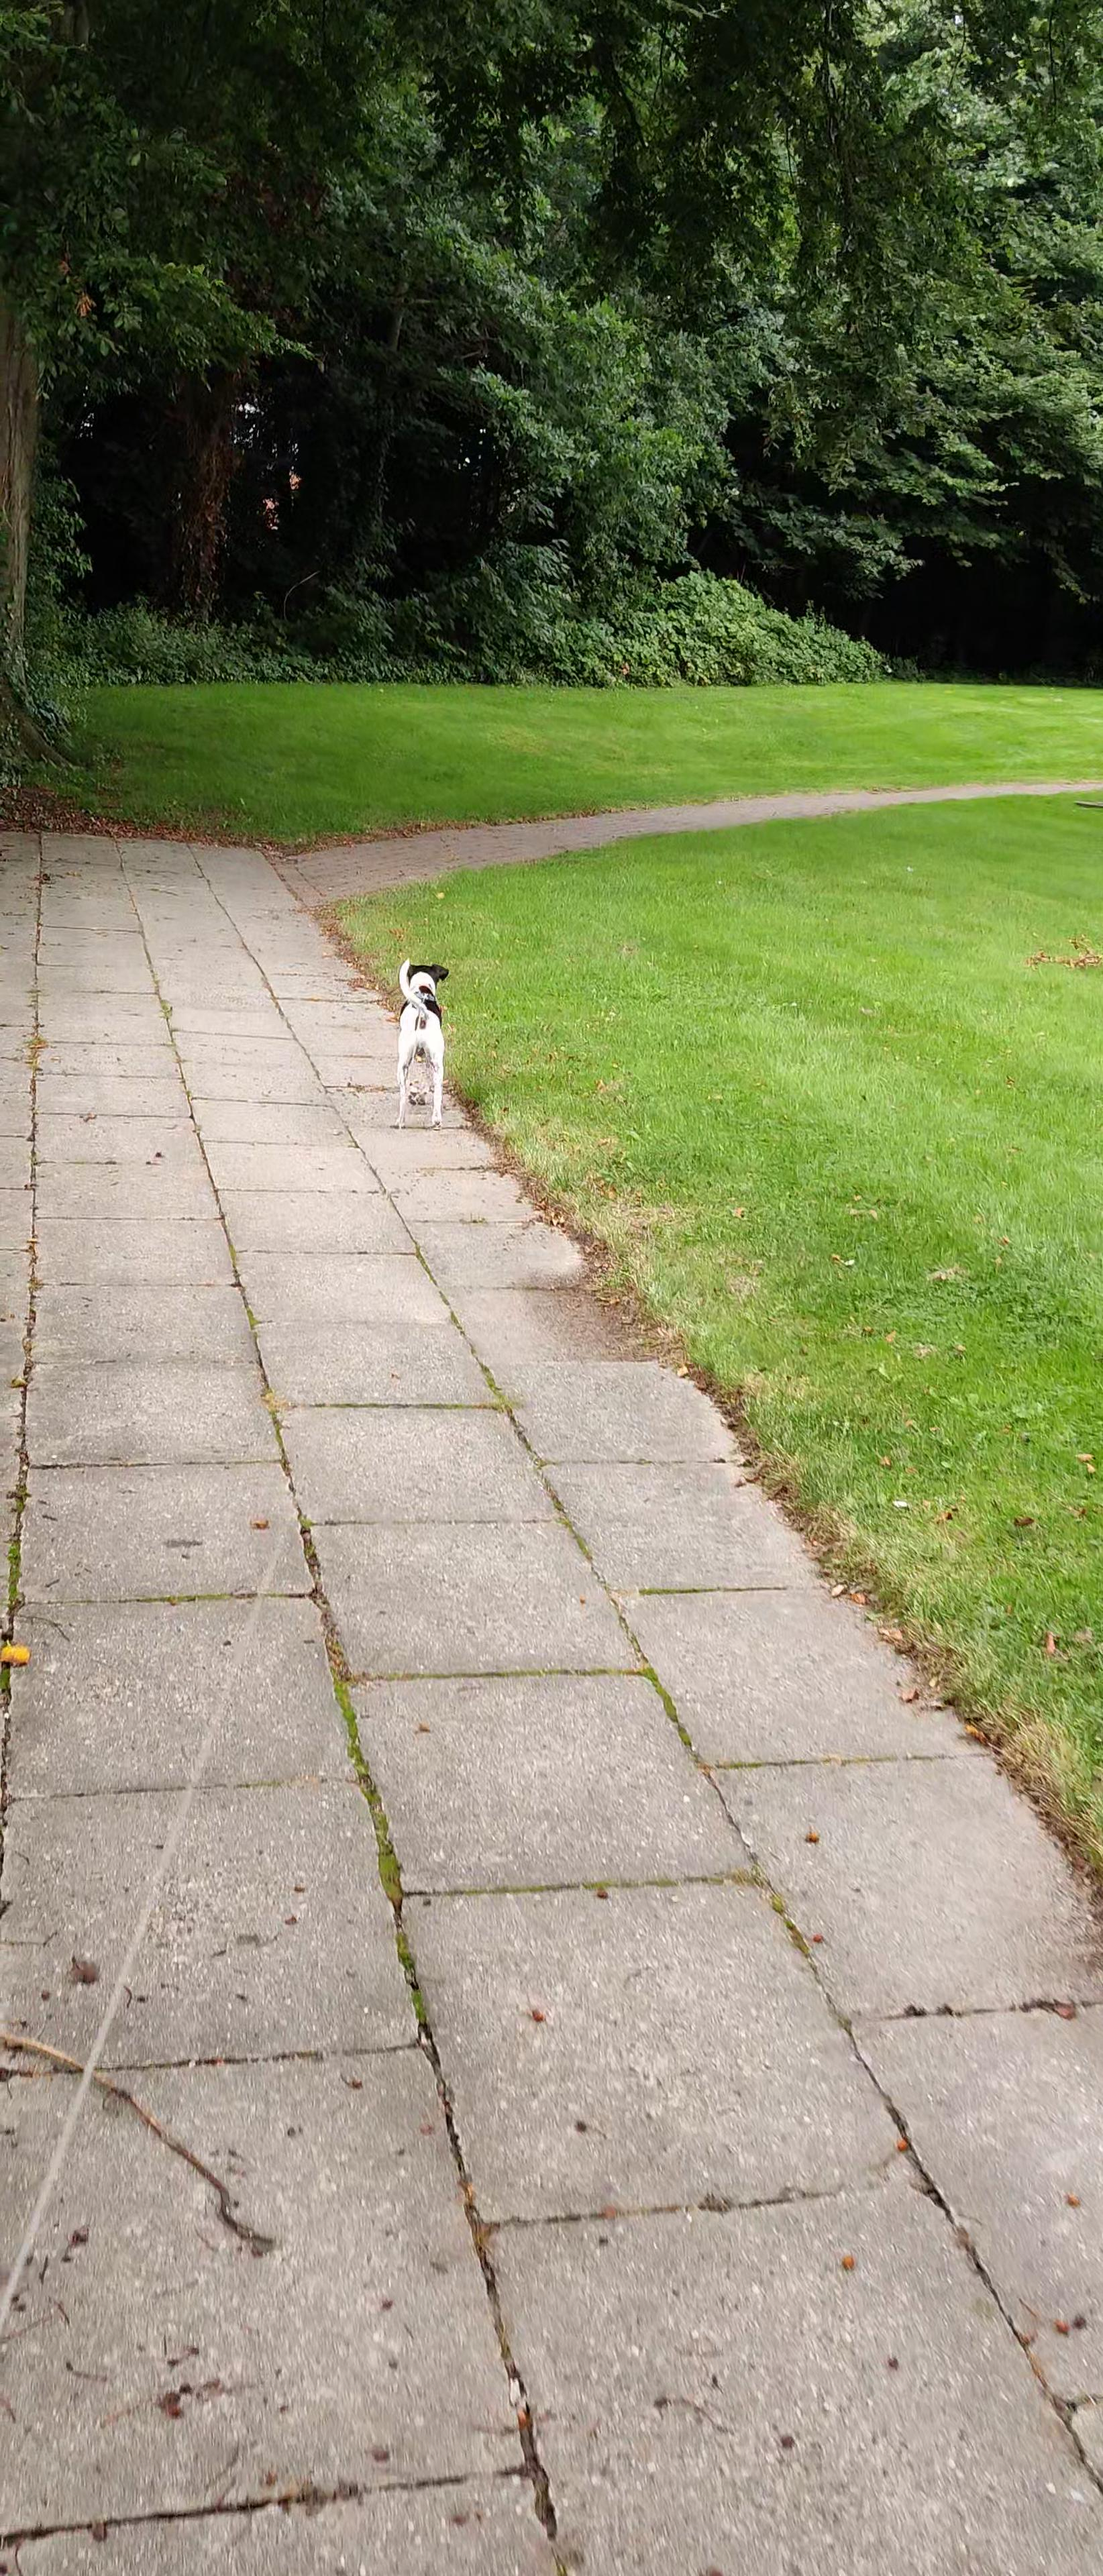Dog: (391, 954, 450, 1130)
